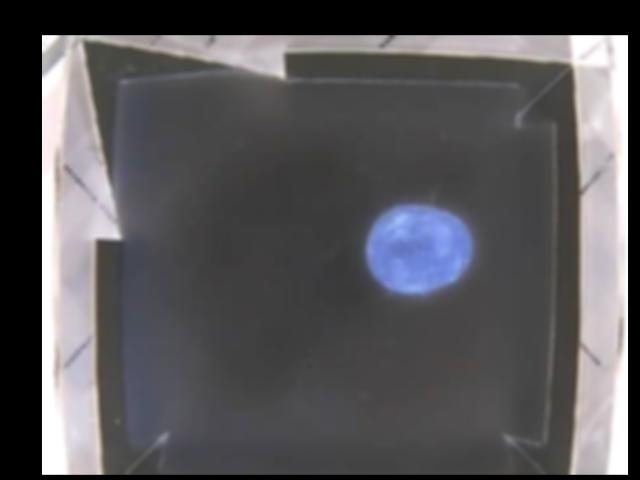Potato: (367, 203, 476, 292)
